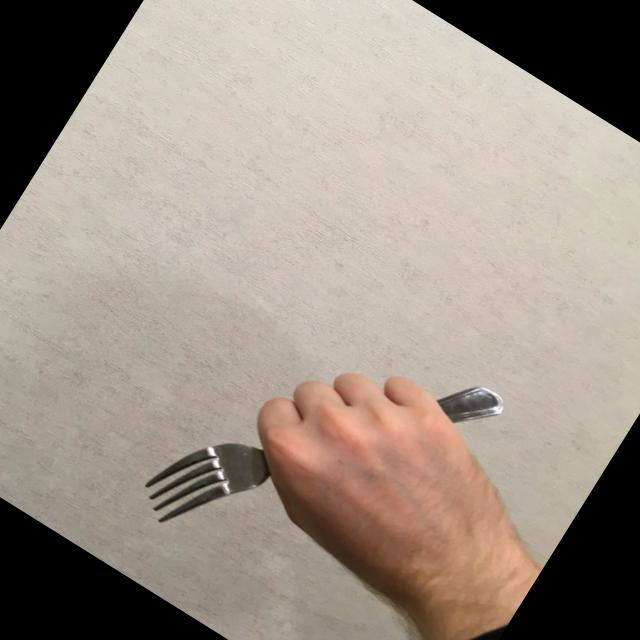fork: (130, 261, 506, 640)
